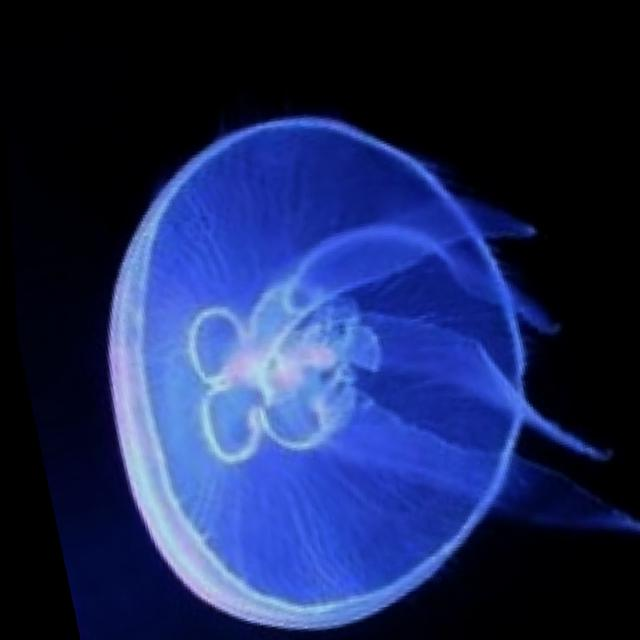Moon-jellyfish: (44, 58, 640, 640)
